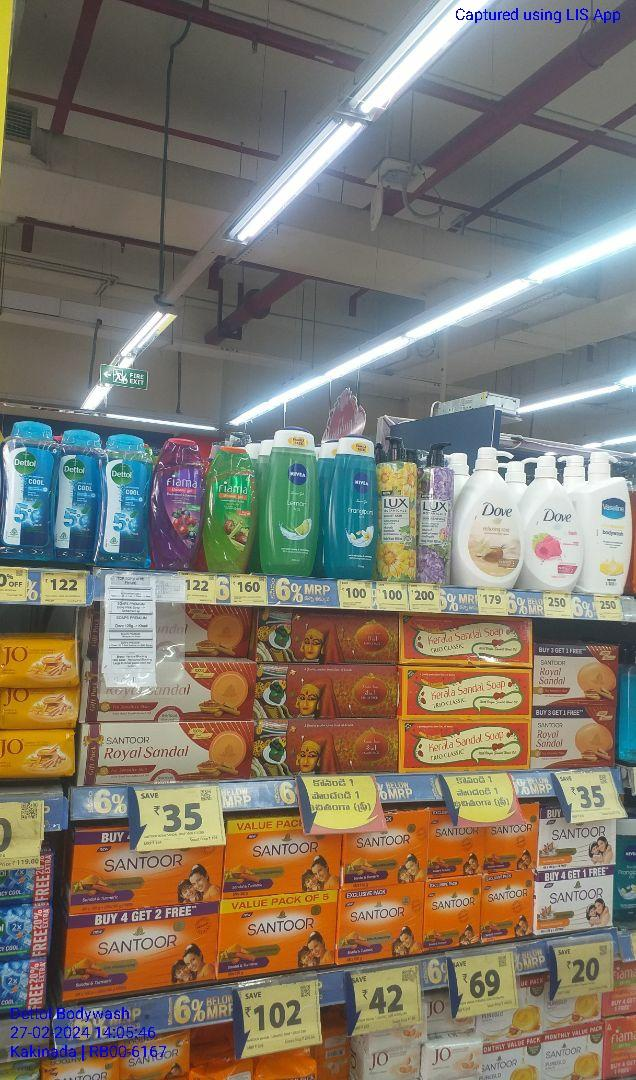Dettol_Bodywash_Cool: (2, 420, 57, 563), (103, 432, 152, 570), (58, 424, 99, 566)
Fiama_Shower_Gel_Lemongrass_and_Jojoba_250ML: (208, 442, 254, 577)
Nivea_Shower_Gel_Frangipani_and_Oil_250ML: (336, 436, 379, 581)
Nivea_Shower_Gel_Lemon_and_Oil_250ML: (272, 427, 318, 579)
